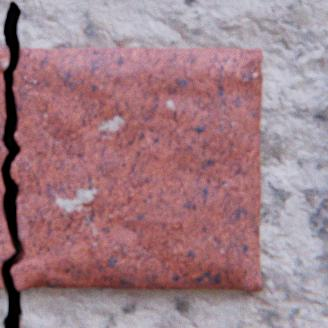broken_brick: (10, 47, 261, 290), (0, 46, 14, 264), (0, 272, 2, 287)
crack: (0, 0, 23, 327)
